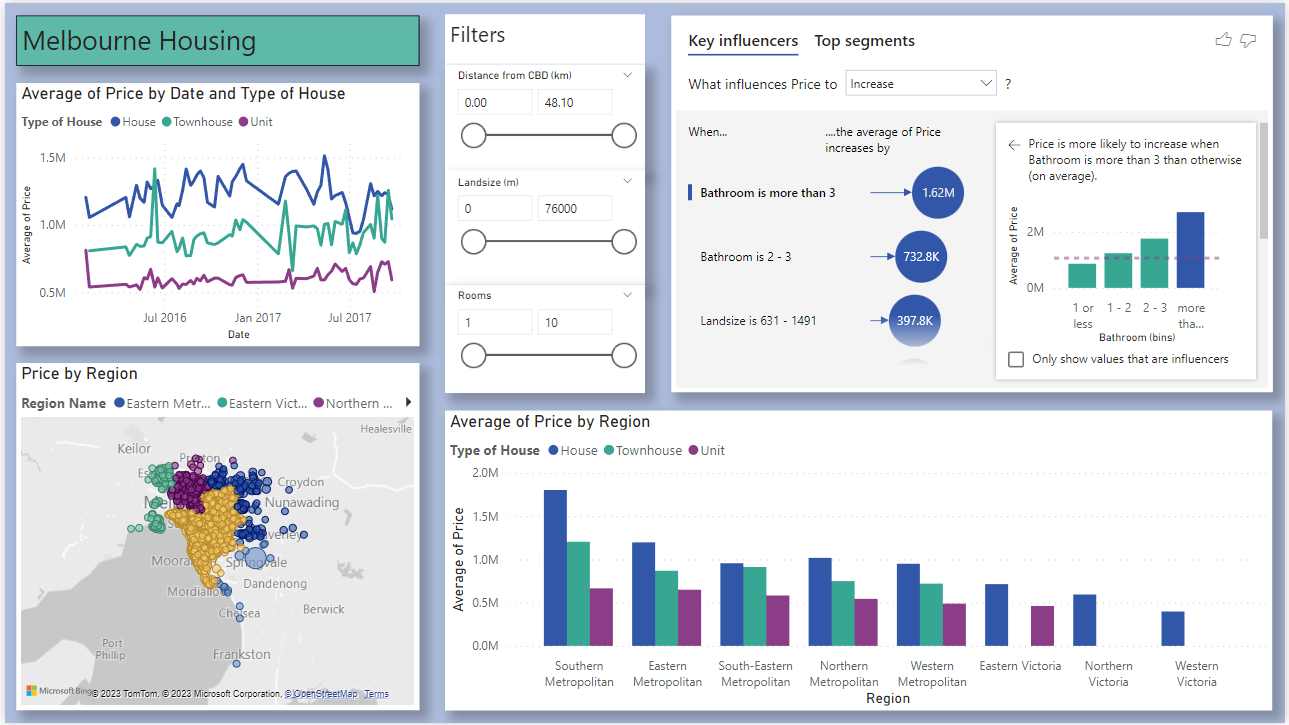

Layout of this report page (visuals, bound fields, positions):
{"tool":"powerbi","page":{"name":"Page 1","canvas":[1280,720],"ordinal":0},"visuals":[{"type":"slicer","fields":{"Values":["melb_data_clean.Distance"]},"box":[440,61,200,107.1],"z":0,"group":"g1"},{"type":"lineChart","fields":{"Category":["melb_data_clean.Date"],"Y":["Avg(melb_data_clean.Price)"],"Series":["melb_data_clean.Type of House"]},"box":[11.4,80,402.9,262.9],"z":0},{"type":"textbox","box":[11.4,12.9,402.9,50],"z":1000},{"type":"slicer","fields":{"Values":["melb_data_clean.Landsize"]},"box":[440,168.1,200,113.3],"z":1000,"group":"g1"},{"type":"slicer","fields":{"Values":["melb_data_clean.Rooms"]},"box":[440,281.4,200,108.6],"z":2000,"group":"g1"},{"type":"clusteredColumnChart","title":"Average of Price by Region","fields":{"Y":["Avg(melb_data_clean.Price)"],"Category":["melb_data_clean.Regionname"],"Series":["melb_data_clean.Type of House"]},"box":[440,407.1,827.1,300],"z":2000},{"type":"textbox","box":[440,11.4,200,49.6],"z":3000,"group":"g1"},{"type":"map","title":"Price by Region","fields":{"Y":["melb_data_clean.Lattitude"],"X":["melb_data_clean.Longtitude"],"Series":["melb_data_clean.Region Name"],"Size":["Avg(melb_data_clean.Price)"]},"box":[11.4,360,402.9,347.1],"z":3000},{"type":"keyDriversVisual","fields":{"Target":["melb_data_clean.Price"],"ExplainBy":["melb_data_clean.Rooms","melb_data_clean.Bathroom","melb_data_clean.Landsize","Sum(melb_data_clean.Car Spaces)"]},"box":[665.7,12.9,601.4,377.1],"z":4000},{"type":"group","id":"g1","title":"Group 1","box":[440,11.4,200,378.6],"z":5000}]}

Visuals, with their boxes in screenshot pixels (x1, y1, x2, y2), scaled from the page's 1280x720 canvas onto the 1289x725 screenshot:
slicer - melb_data_clean.Distance: 443/61/644/169
lineChart - melb_data_clean.Date x Avg(melb_data_clean.Price): 11/81/417/345
textbox: 11/13/417/63
slicer - melb_data_clean.Landsize: 443/169/644/283
slicer - melb_data_clean.Rooms: 443/283/644/393
"Average of Price by Region" clusteredColumnChart: 443/410/1276/712
textbox: 443/11/644/61
"Price by Region" map: 11/362/417/712
keyDriversVisual - melb_data_clean.Price x melb_data_clean.Rooms: 670/13/1276/393
"Group 1" group: 443/11/644/393
